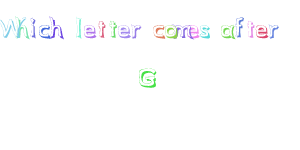G: (137, 63, 161, 90)
W: (1, 16, 20, 41)
a: (220, 19, 236, 45)
c: (152, 22, 166, 43), (38, 21, 51, 42)
e: (116, 17, 131, 42), (84, 21, 98, 42), (188, 21, 199, 42), (255, 23, 268, 40)
f: (234, 15, 245, 42)
h: (49, 13, 65, 43), (16, 14, 28, 43)
i: (28, 16, 40, 42)
l: (72, 15, 85, 40)
m: (175, 21, 191, 43)
o: (164, 21, 178, 42)
r: (130, 19, 142, 42), (268, 19, 280, 42)
s: (200, 23, 212, 41)
t: (107, 17, 117, 44), (97, 19, 108, 39), (245, 20, 256, 40)
